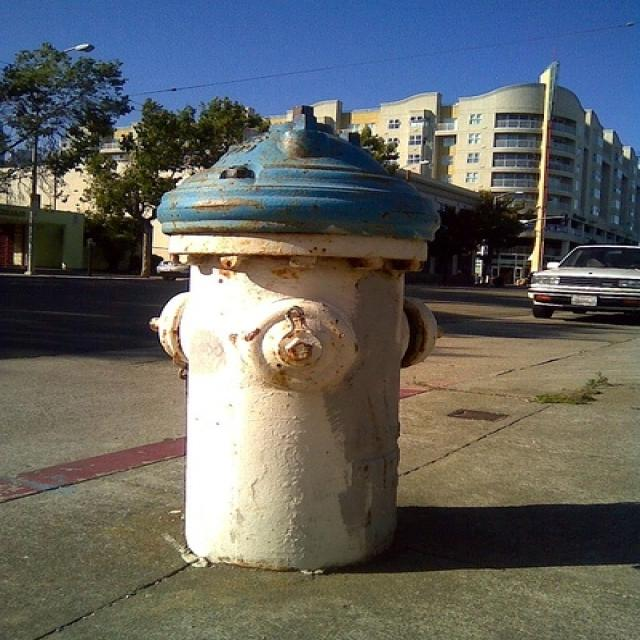fire_hydrant: (144, 125, 517, 583)
